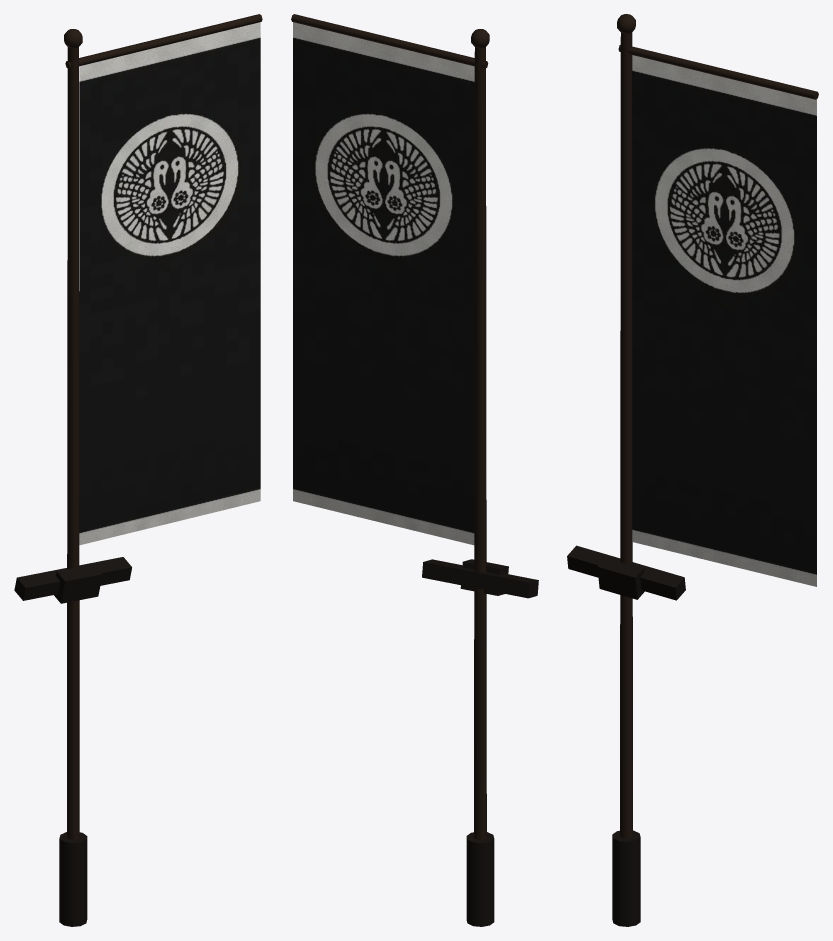
The model's file is sashimono_warrior_monk_yellow.glb.
The picture shows the model from 3 angles, left to right: view 1: azimuth 30°, elevation 25°; view 2: azimuth 150°, elevation 25°; view 3: azimuth 330°, elevation 25°; orthographic projection.
Parts seen in each view (by area): view 1: _MeshInstance3D_147, _MeshInstance3D_144, _MeshInstance3D_150, _MeshInstance3D_153, _MeshInstance3D_145, _MeshInstance3D_152; view 2: _MeshInstance3D_147, _MeshInstance3D_144, _MeshInstance3D_150, _MeshInstance3D_153, _MeshInstance3D_145; view 3: _MeshInstance3D_147, _MeshInstance3D_144, _MeshInstance3D_150, _MeshInstance3D_153, _MeshInstance3D_145, _MeshInstance3D_152.
Part boxes in pixels (x1=…): _MeshInstance3D_147: x1=79, y1=22, x2=260, y2=545; _MeshInstance3D_144: x1=67, y1=47, x2=79, y2=839; _MeshInstance3D_150: x1=59, y1=832, x2=87, y2=926; _MeshInstance3D_153: x1=14, y1=557, x2=131, y2=600; _MeshInstance3D_145: x1=65, y1=14, x2=262, y2=68; _MeshInstance3D_152: x1=54, y1=564, x2=102, y2=603; _MeshInstance3D_147: x1=293, y1=22, x2=474, y2=545; _MeshInstance3D_144: x1=474, y1=47, x2=486, y2=839; _MeshInstance3D_150: x1=466, y1=832, x2=494, y2=926; _MeshInstance3D_153: x1=422, y1=559, x2=538, y2=598; _MeshInstance3D_145: x1=291, y1=14, x2=488, y2=68; _MeshInstance3D_147: x1=632, y1=55, x2=816, y2=586; _MeshInstance3D_144: x1=620, y1=32, x2=632, y2=838; _MeshInstance3D_150: x1=612, y1=830, x2=640, y2=926; _MeshInstance3D_153: x1=567, y1=545, x2=685, y2=600; _MeshInstance3D_145: x1=618, y1=45, x2=818, y2=99; _MeshInstance3D_152: x1=597, y1=556, x2=644, y2=599.
Bounding box in the file's own units: 0.4516 × 1.6 × 0.0564.
3 materials, 1 textured.
